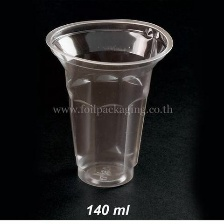glass: (41, 13, 180, 195)
